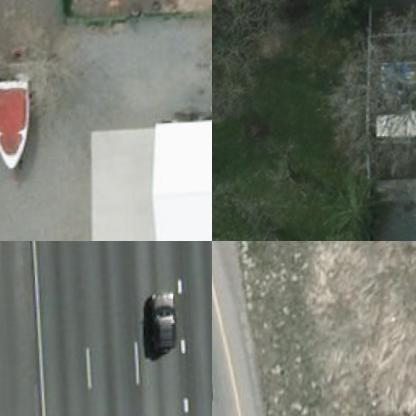boat: (0, 77, 39, 169)
car: (146, 290, 176, 349)
